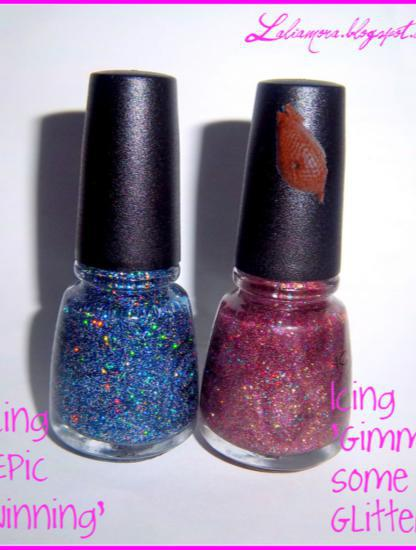Salak: (246, 103, 353, 210)
